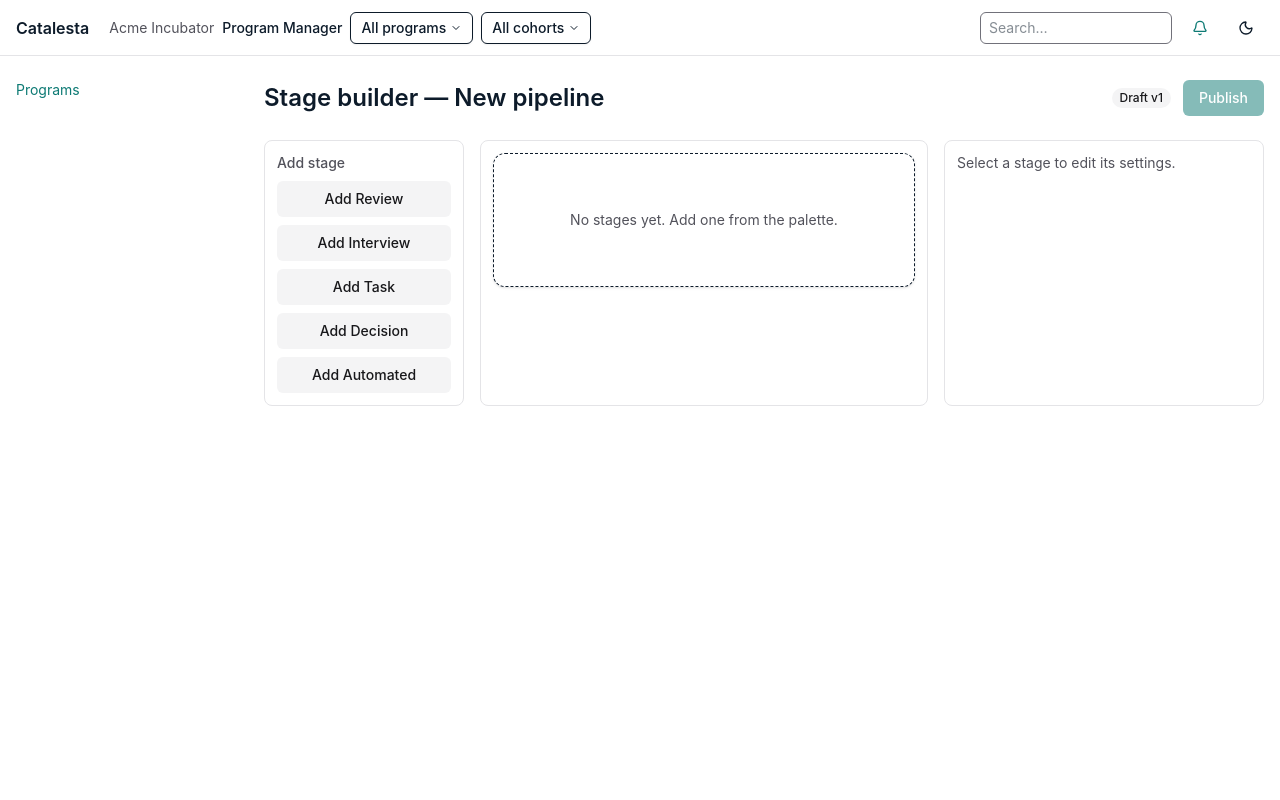
Test: adds a stage from the palette and shows it on the canvas
Expected: the element showing "No stages yet. Add one from the palette." is shown, [480,140,928,406]
Click the button "Add Review" at (364, 199), box [277,181,451,217]
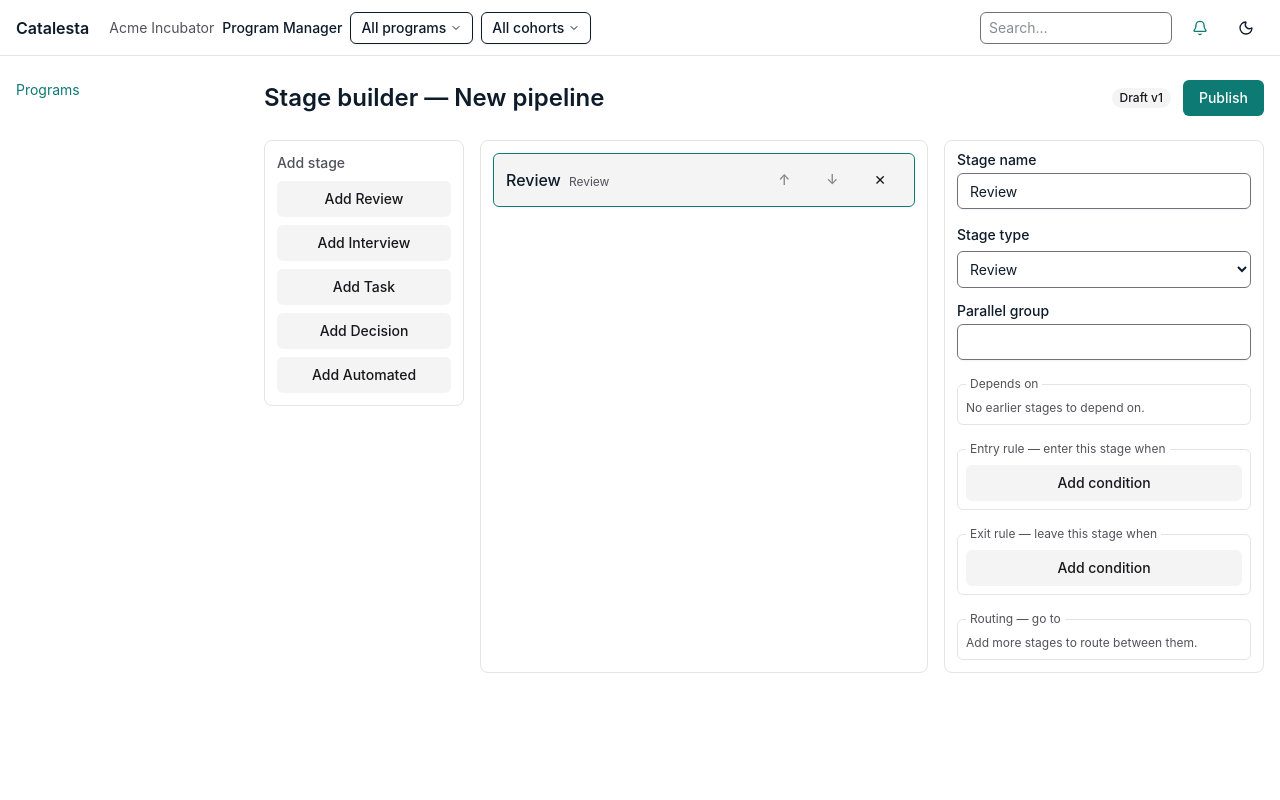
Result: the list item shows "Review" at [506,168,609,192]
